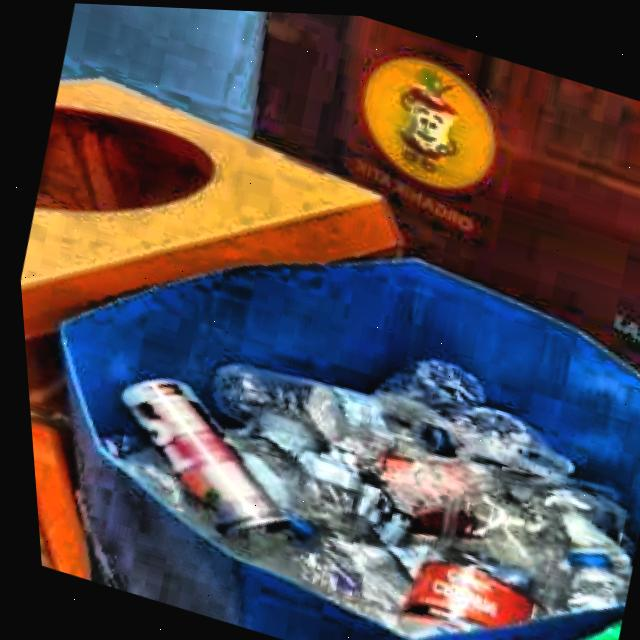metal: (113, 378, 278, 528)
